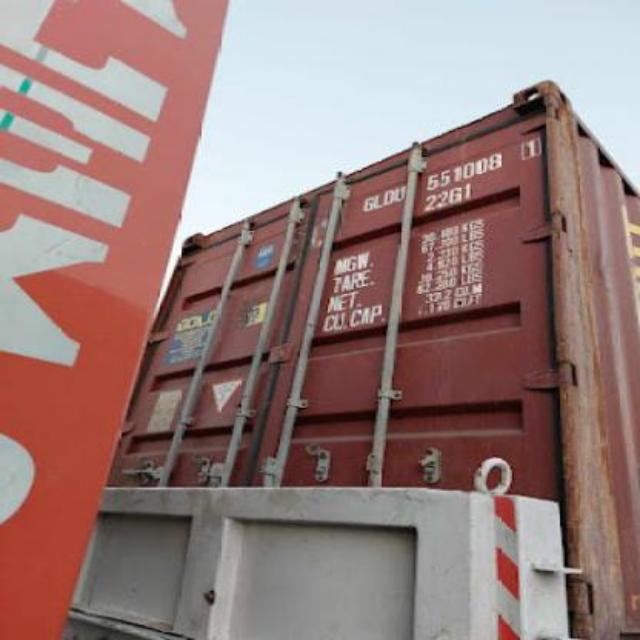0: (462, 164, 476, 178), (474, 160, 488, 172)
1: (526, 142, 536, 158), (454, 168, 460, 180)
5: (426, 174, 438, 190), (440, 172, 450, 184)
8: (488, 154, 502, 168)
D: (382, 190, 394, 206)
G: (364, 198, 374, 212)
L: (374, 194, 386, 210)
U: (394, 186, 404, 202)
